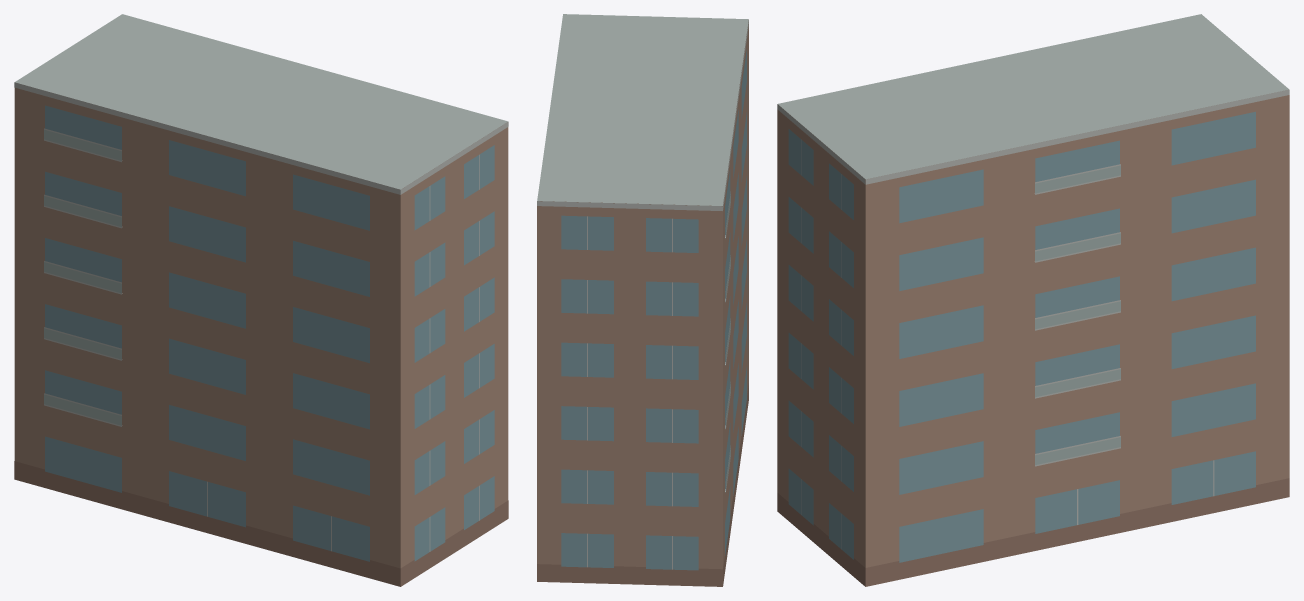
Rendered from survey-upis-32704029.glb.
3 renders of one model, left to right at view 1: azimuth 30°, elevation 25°; view 2: azimuth 150°, elevation 25°; view 3: azimuth 270°, elevation 25°, orthographic. The views are drawn at different scales.
Parts seen in each view (by area): view 1: survey-upis-32704029.tmp; view 2: survey-upis-32704029.tmp; view 3: survey-upis-32704029.tmp.
Boxes of the visible parts, bbox=[...] form: survey-upis-32704029.tmp: bbox=[14, 14, 508, 586]; survey-upis-32704029.tmp: bbox=[537, 14, 748, 586]; survey-upis-32704029.tmp: bbox=[777, 14, 1289, 586].
Bounding box in the file's own units: 16.02 × 18.4 × 20.96.
